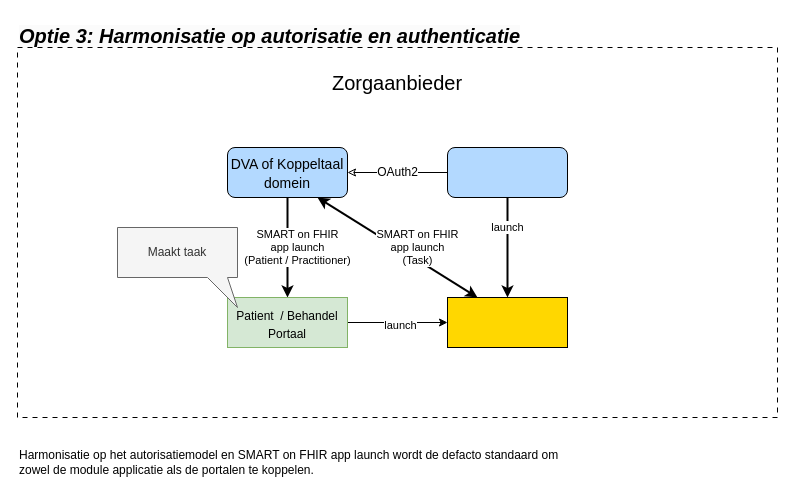
Image size: 795x494. Some labels were removed from this diagram. Here are the shapes that lost their labels. From the top down, the centre of each, then its label:
the point at 507,172: PGO
the point at 507,322: Module
